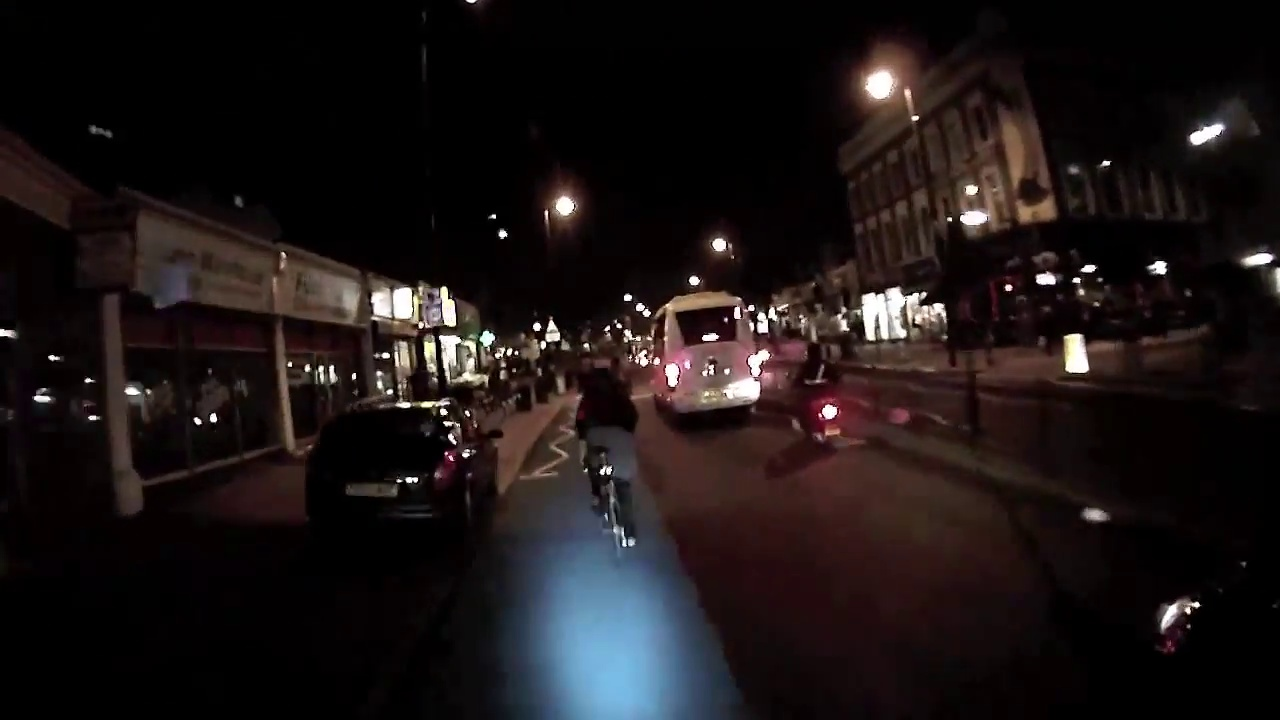cyclist_back: (572, 351, 656, 571), (782, 340, 847, 459)
